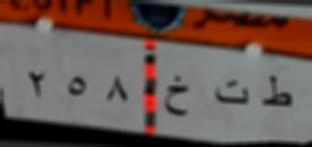2: (25, 66, 51, 103)
5: (62, 73, 91, 104)
8: (103, 71, 130, 108)
Taa: (257, 71, 293, 111)
khaa: (163, 71, 190, 123)
taa: (210, 77, 252, 107)
